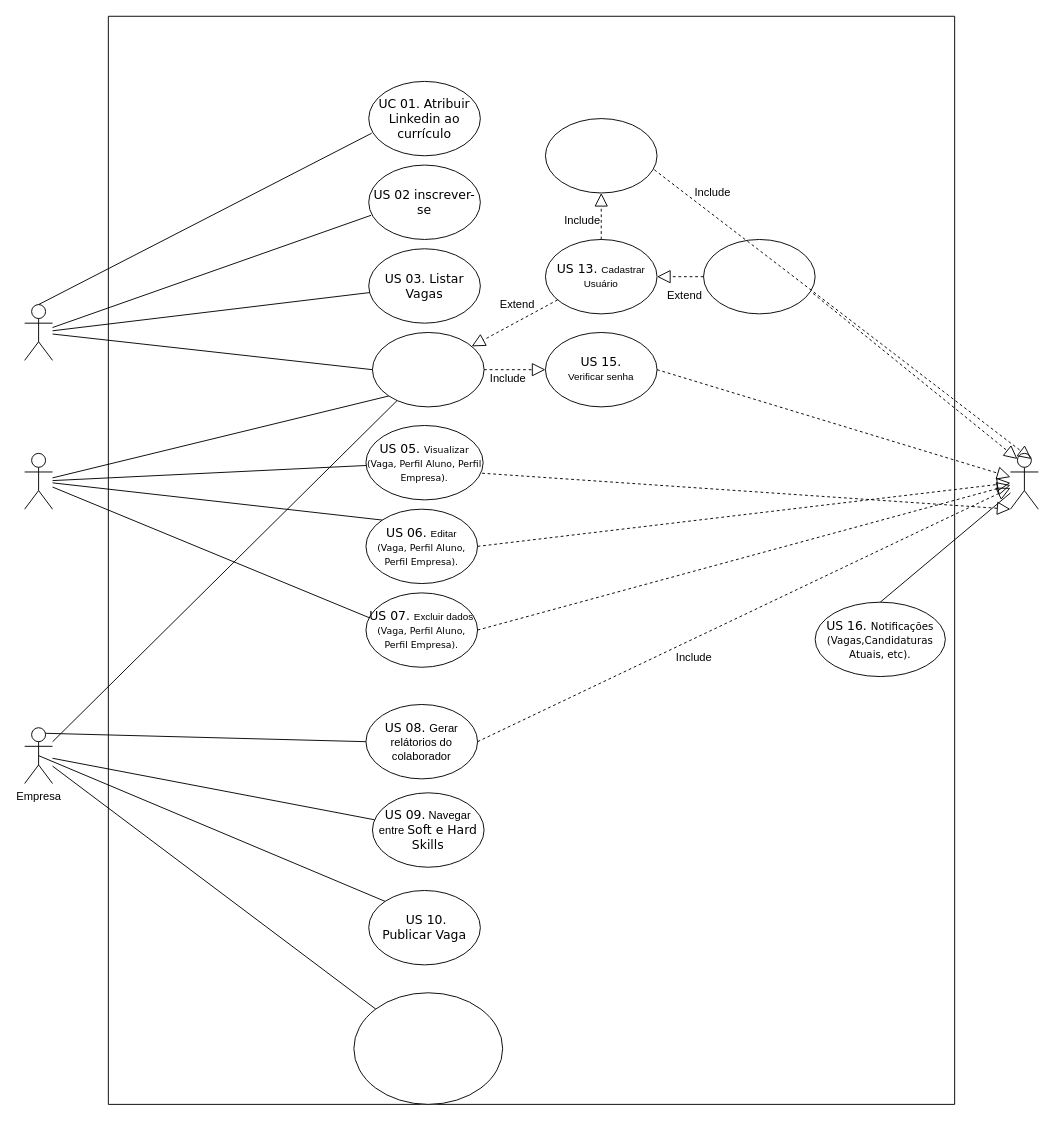
The diagram is 1060 pixels wide and 1121 high, and some of its shapes have lost their labels. The centre of each missing label's shape, as x and y in pixels:
"Adm" goes at [38,480].
"Aluno" goes at [38,332].
"Sistema" goes at [1024,480].
"US 04. Efetuar Login" goes at [428,369].
"US 11. Dashboard da vaga (Visualizar Candidaturas, Aceitar, Negar)" goes at [428,1048].
"US 12. Gerar perfil de personalidade" goes at [601,155].
"US 14. Verificar se o usuario está no banco de dados." goes at [759,276].
